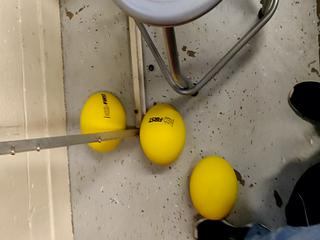power_cell: (72, 88, 130, 159), (184, 152, 241, 223), (137, 99, 194, 170)
